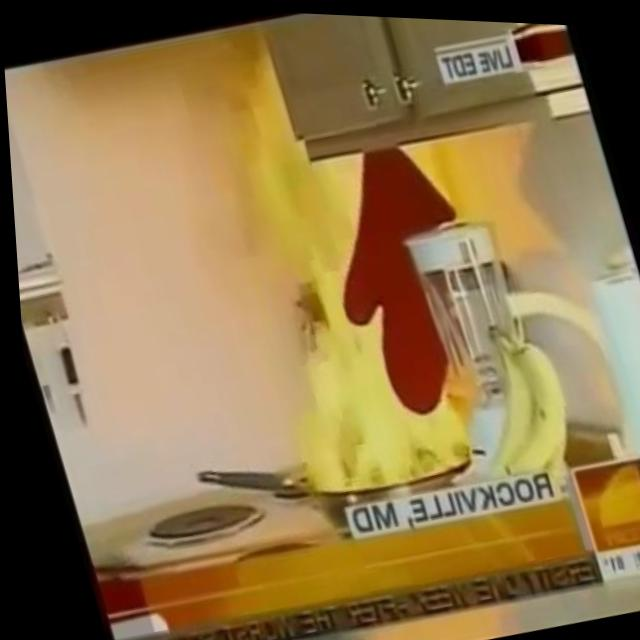fire: (153, 5, 522, 514)
